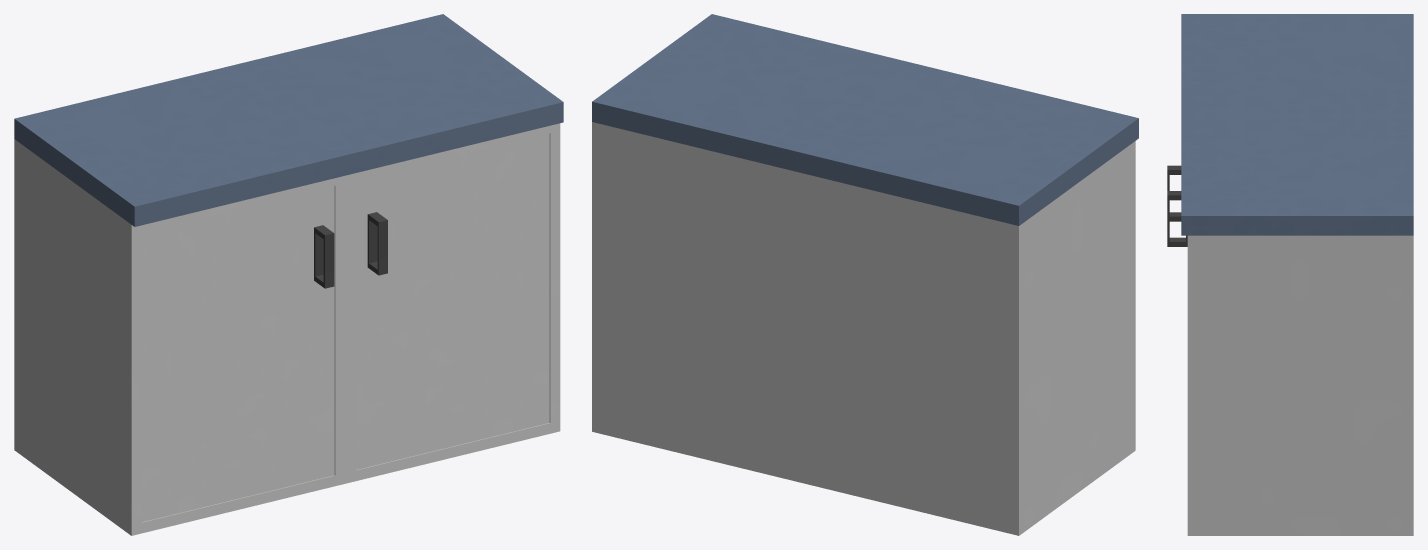
File: Cabinet_02_02.fbx
The picture shows the model from 3 angles, left to right: view 1: azimuth 30°, elevation 25°; view 2: azimuth 150°, elevation 25°; view 3: azimuth 270°, elevation 25°; orthographic projection. The views are drawn at different scales.
Parts seen in each view (by area): view 1: Cabinet_02_02, Carbinet_02_Door.002, Carbinet_02_Door.003; view 2: Cabinet_02_02; view 3: Cabinet_02_02, Carbinet_02_Door.003, Carbinet_02_Door.002.
Boxes of the visible parts, x1,y1,x2,y2 form: Cabinet_02_02: (14,14,563,535); Carbinet_02_Door.002: (141,186,334,522); Carbinet_02_Door.003: (356,133,549,469); Cabinet_02_02: (592,14,1138,535); Cabinet_02_02: (1181,14,1413,535); Carbinet_02_Door.003: (1167,191,1187,246); Carbinet_02_Door.002: (1167,165,1181,221).
Size of the model in its own units: 1.06 by 0.7839 by 0.5471.
